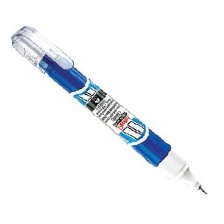correction_fluid: (9, 22, 210, 197)
